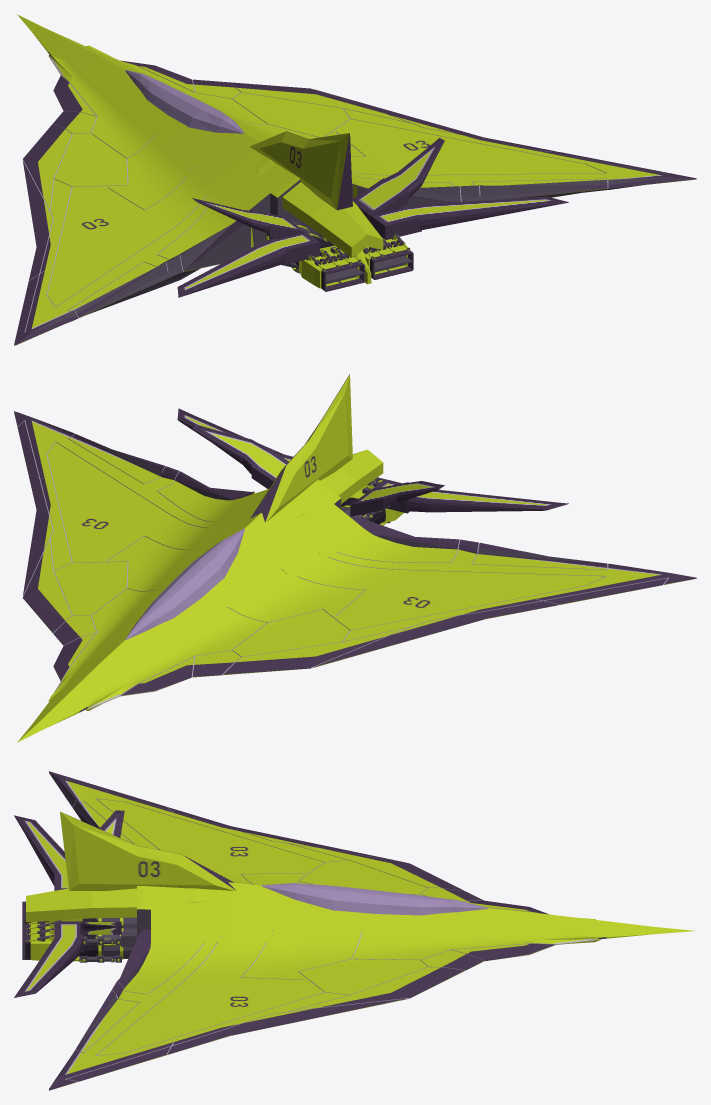
Rendered from B_lime.glb.
3 renders of one model, top to bottom at view 1: azimuth 30°, elevation 25°; view 2: azimuth 150°, elevation 25°; view 3: azimuth 270°, elevation 25°, orthographic. The views are drawn at different scales.
Visible parts, largest first — view 1: AF_MAIN_WING_L_01, AF_MAIN_WING_R_01, AF_BODY_01, AF_MATCH_TAIL_CENTER, AF_REAR_WING_R3_R_tail_end_horizontal_blade, AF_MATCH_AFT_SADDLE, AF_REAR_WING_R3_R_tail_end_horizontal_blade_L, AF_DOME_CENTER_01, AF_REAR_WING_R3_R_small_upper_canted_blade, AF_REAR_WING_R3_R_small_upper_canted_blade_L, AF_ENGINE_E2_R_low_wide_cowl_L; view 2: AF_MAIN_WING_L_01, AF_MAIN_WING_R_01, AF_BODY_01, AF_MATCH_TAIL_CENTER, AF_DOME_CENTER_01, AF_REAR_WING_R3_R_tail_end_horizontal_blade_L, AF_REAR_WING_R3_R_small_upper_canted_blade, AF_MATCH_AFT_SADDLE, AF_REAR_WING_R3_R_small_upper_canted_blade_L, AF_REAR_WING_R3_R_tail_end_horizontal_blade; view 3: AF_MAIN_WING_R_01, AF_MAIN_WING_L_01, AF_BODY_01, AF_MATCH_TAIL_CENTER, AF_DOME_CENTER_01, AF_MATCH_AFT_SADDLE, AF_REAR_WING_R3_R_tail_end_horizontal_blade, AF_REAR_WING_R3_R_tail_end_horizontal_blade_L, AF_REAR_WING_R3_R_small_upper_canted_blade, AF_ENGINE_E2_R_low_wide_cowl.
Boxes of the visible parts, x1,y1,x2,y2 form: AF_MAIN_WING_L_01: (14,54,254,345); AF_MAIN_WING_R_01: (86,45,696,206); AF_BODY_01: (17,14,362,266); AF_MATCH_TAIL_CENTER: (250,131,352,210); AF_REAR_WING_R3_R_tail_end_horizontal_blade: (370,196,568,240); AF_MATCH_AFT_SADDLE: (253,156,383,257); AF_REAR_WING_R3_R_tail_end_horizontal_blade_L: (177,231,319,297); AF_DOME_CENTER_01: (125,70,244,133); AF_REAR_WING_R3_R_small_upper_canted_blade: (352,137,444,221); AF_REAR_WING_R3_R_small_upper_canted_blade_L: (192,198,305,238); AF_ENGINE_E2_R_low_wide_cowl_L: (297,245,359,288); AF_MAIN_WING_L_01: (86,517,696,710); AF_MAIN_WING_R_01: (14,411,254,701); AF_BODY_01: (17,479,362,742); AF_MATCH_TAIL_CENTER: (250,374,352,522); AF_DOME_CENTER_01: (125,528,244,639); AF_REAR_WING_R3_R_tail_end_horizontal_blade_L: (370,479,568,513); AF_REAR_WING_R3_R_small_upper_canted_blade: (192,424,288,488); AF_MATCH_AFT_SADDLE: (253,449,383,518); AF_REAR_WING_R3_R_small_upper_canted_blade_L: (350,481,444,516); AF_REAR_WING_R3_R_tail_end_horizontal_blade: (177,408,293,461); AF_MAIN_WING_R_01: (49,929,600,1090); AF_MAIN_WING_L_01: (49,771,596,919); AF_BODY_01: (137,882,694,943); AF_MATCH_TAIL_CENTER: (60,811,236,890); AF_DOME_CENTER_01: (261,883,488,915); AF_MATCH_AFT_SADDLE: (26,888,206,922); AF_REAR_WING_R3_R_tail_end_horizontal_blade: (14,921,83,997); AF_REAR_WING_R3_R_tail_end_horizontal_blade_L: (14,815,68,890); AF_REAR_WING_R3_R_small_upper_canted_blade: (80,921,124,934); AF_ENGINE_E2_R_low_wide_cowl: (30,923,80,960).
Bounding box in the file's own units: 14.65 × 3.44 × 13.26.
20 materials, 6 textured.
